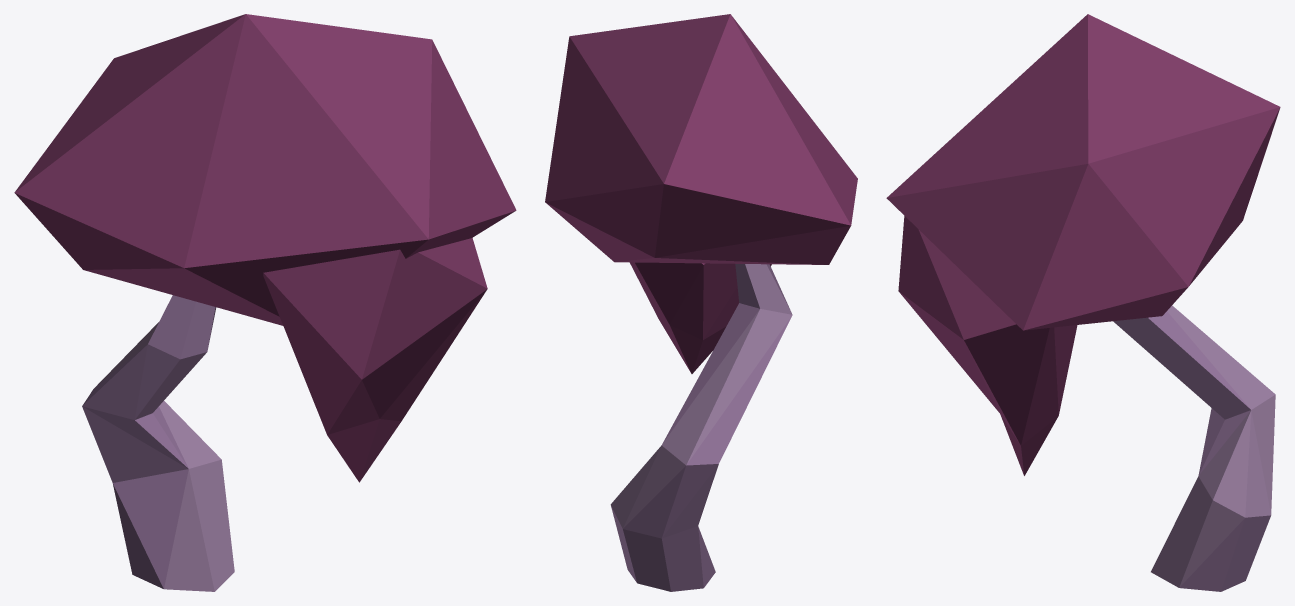
Rendered from TreeAutumn3_Alt4.fbx.
The picture shows the model from 3 angles, left to right: view 1: azimuth 30°, elevation 25°; view 2: azimuth 150°, elevation 25°; view 3: azimuth 270°, elevation 25°; orthographic projection. The views are drawn at different scales.
Visible parts, largest first — view 1: TreeAutumn3_Alt4; view 2: TreeAutumn3_Alt4; view 3: TreeAutumn3_Alt4.
Boxes of the visible parts, left/top/right/bottom form: TreeAutumn3_Alt4: left=14, top=14, right=516, bottom=591; TreeAutumn3_Alt4: left=545, top=14, right=857, bottom=591; TreeAutumn3_Alt4: left=886, top=14, right=1280, bottom=591.
Bounding box in the file's own units: 1.23 × 1.68 × 1.08.
